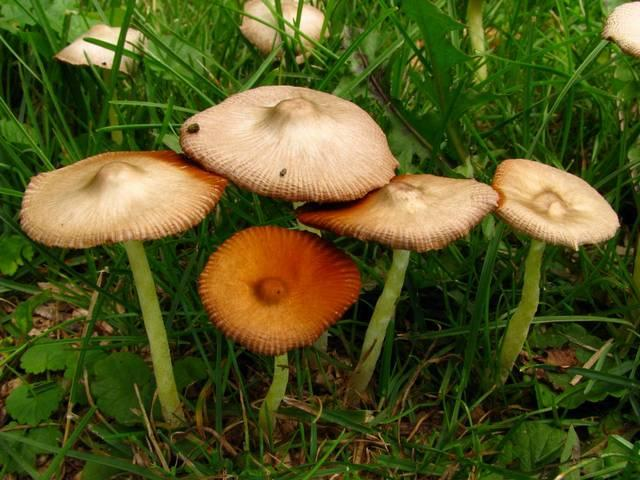edible_mushroom: (18, 148, 228, 427), (295, 171, 499, 402), (197, 223, 361, 437), (490, 156, 620, 385), (178, 83, 399, 203), (238, 0, 329, 63), (52, 22, 147, 78), (601, 0, 639, 60)
